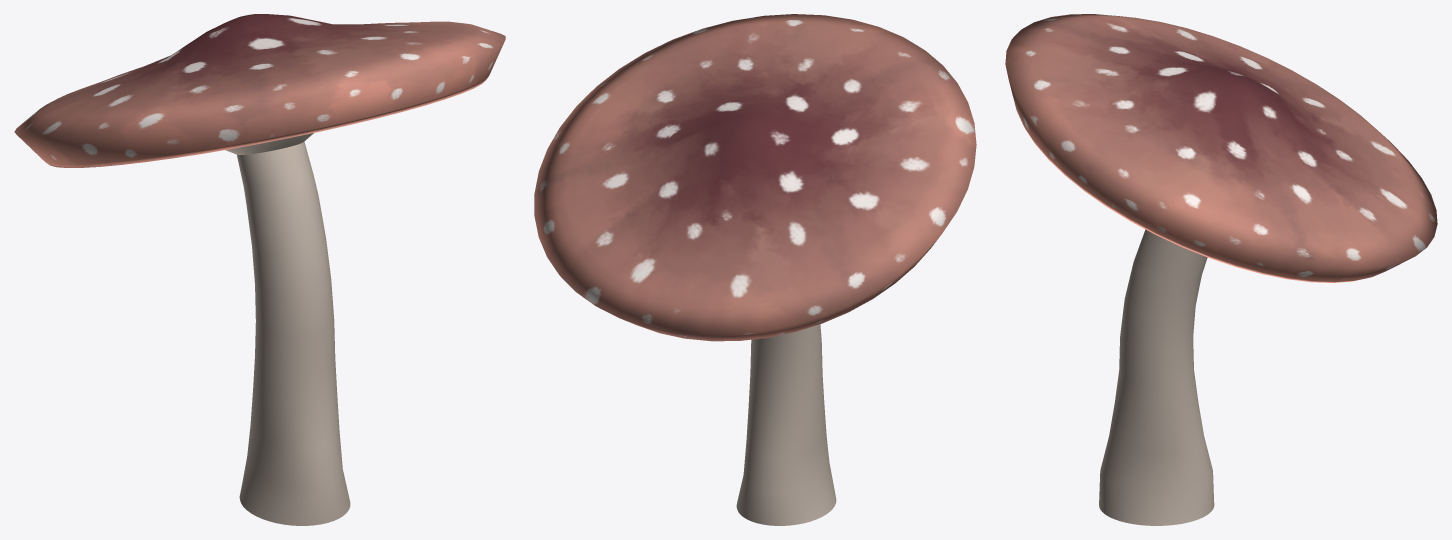
File: Mushroom Wide.fbx
3 views of the same model, side by side, from view 1: azimuth 30°, elevation 25°; view 2: azimuth 150°, elevation 25°; view 3: azimuth 270°, elevation 25° (orthographic). The views are drawn at different scales.
Parts seen in each view (by area): view 1: pasted__pCylinder1; view 2: pasted__pCylinder1; view 3: pasted__pCylinder1.
Part boxes in pixels (box(x1,y1,x2,y2)): pasted__pCylinder1: box(14, 14, 505, 525); pasted__pCylinder1: box(534, 14, 976, 525); pasted__pCylinder1: box(1005, 14, 1437, 525).
Size of the model in its own units: 4.5 by 4.76 by 4.17.
1 material, 1 textured.
